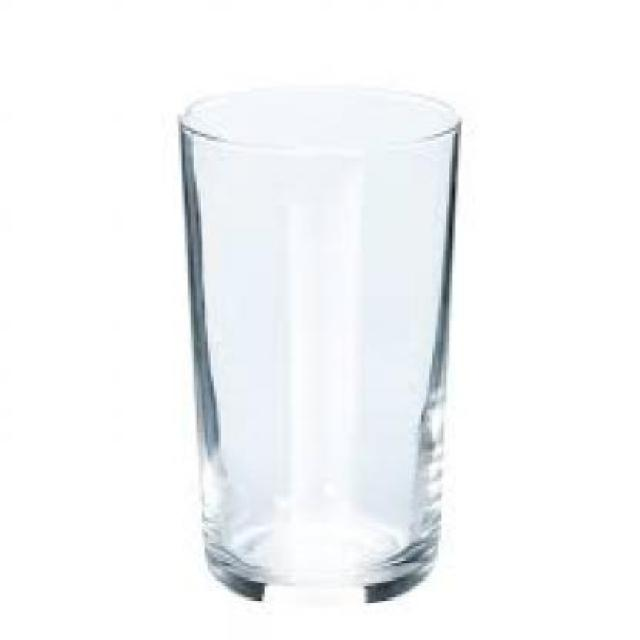kaca: (174, 83, 458, 603)
